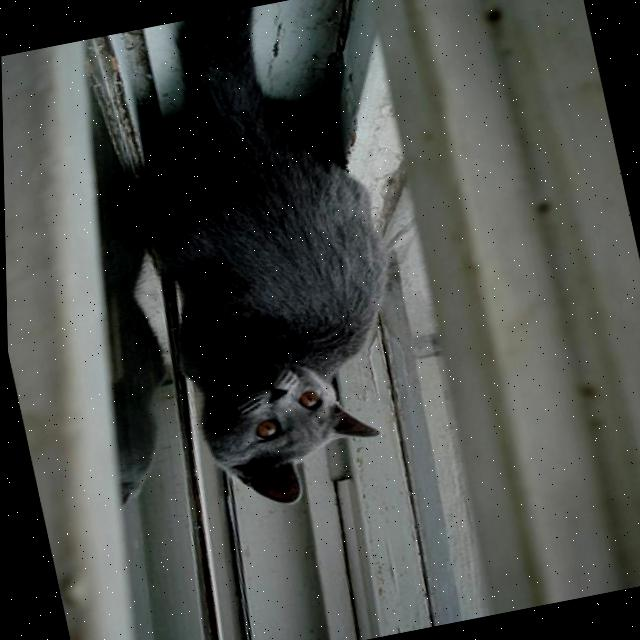British Shorthair: (97, 0, 444, 523)
